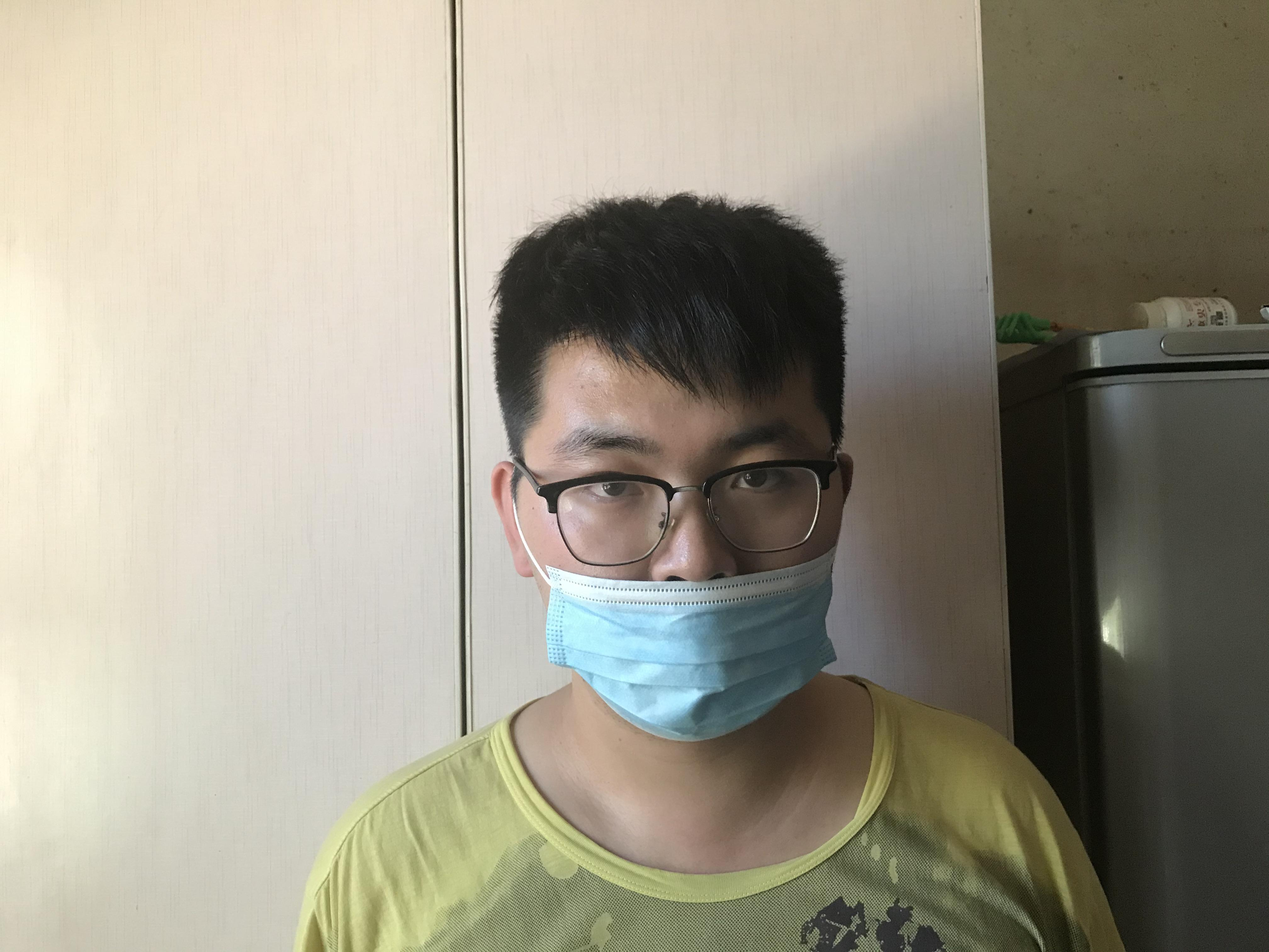WRONG: (536, 376, 843, 740)
